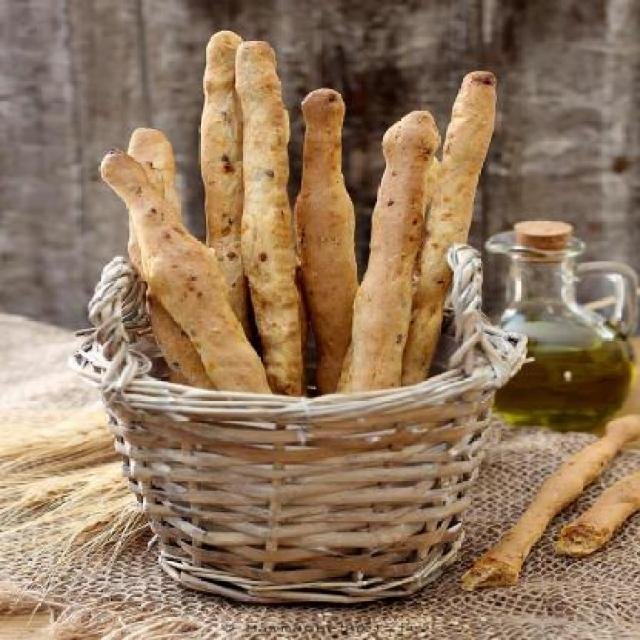Grissini: (96, 27, 502, 402)
